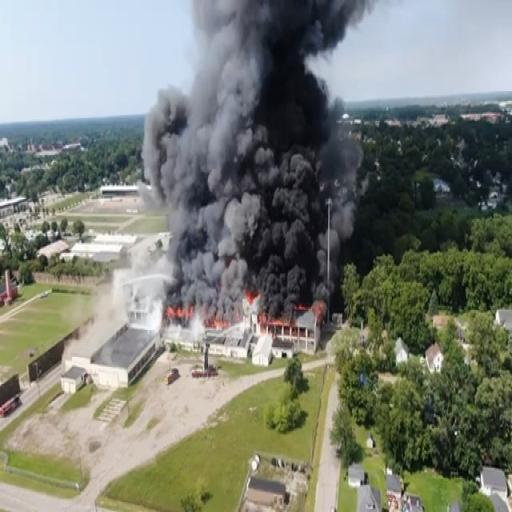smoke: (191, 0, 255, 167), (254, 0, 328, 144), (317, 129, 355, 299), (286, 147, 320, 299), (255, 149, 286, 313), (145, 82, 187, 194), (224, 195, 261, 298), (164, 196, 194, 301), (198, 197, 222, 309)
